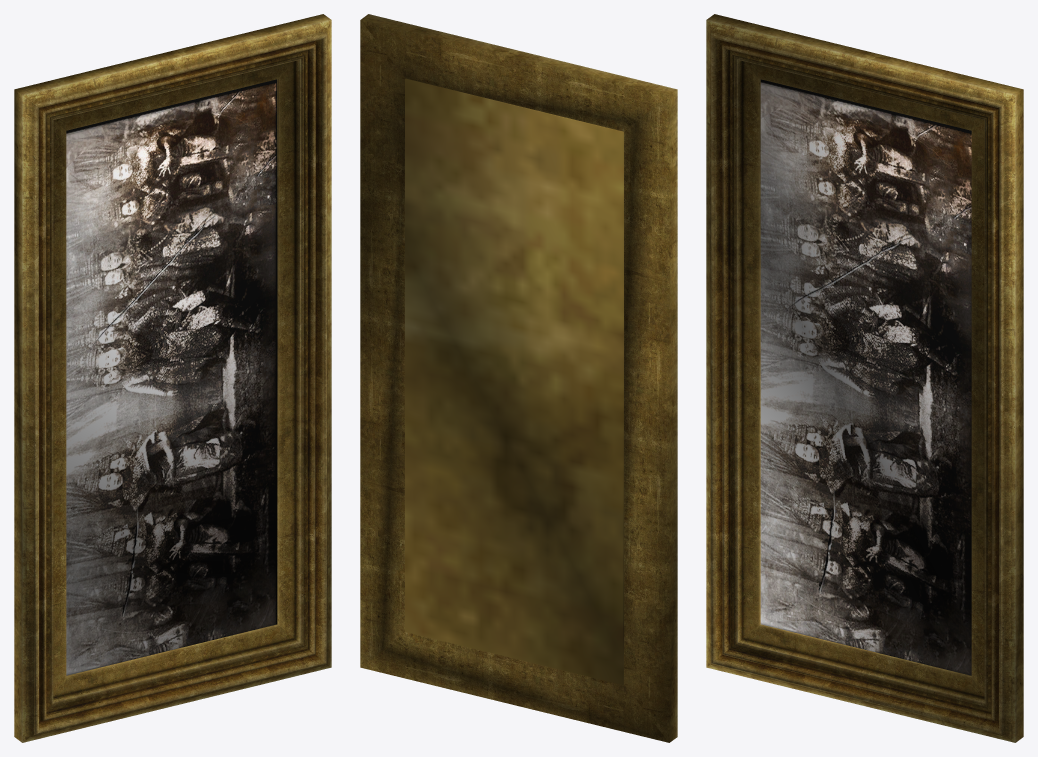
Rendered from photoFrameWallBig02.FBX.
3 renders of one model, left to right at view 1: azimuth 30°, elevation 25°; view 2: azimuth 150°, elevation 25°; view 3: azimuth 330°, elevation 25°, orthographic.
Visible parts, largest first — view 1: SM_PhotoFrameWallBig02; view 2: SM_PhotoFrameWallBig02; view 3: SM_PhotoFrameWallBig02.
Part boxes in pixels (<box>): SM_PhotoFrameWallBig02: <box>14,14,331,742</box>; SM_PhotoFrameWallBig02: <box>360,14,677,742</box>; SM_PhotoFrameWallBig02: <box>706,14,1023,742</box>.
Size of the model in its own units: 75.2 by 151 by 5.78.
1 material, 1 textured.
